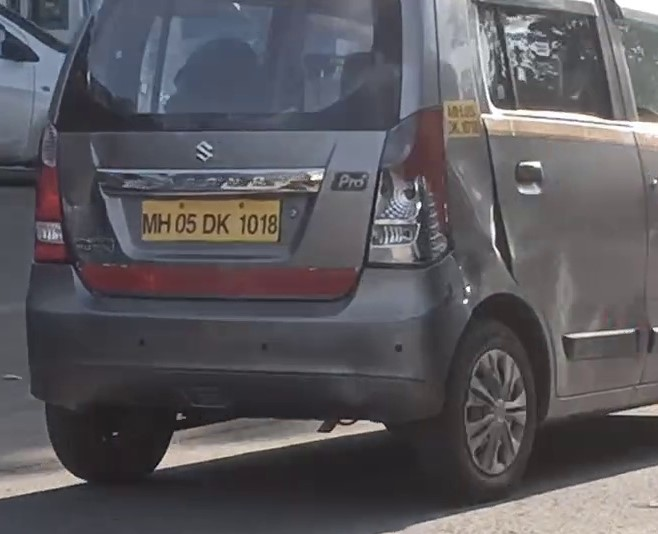MH05DK1018: (140, 199, 281, 241)
